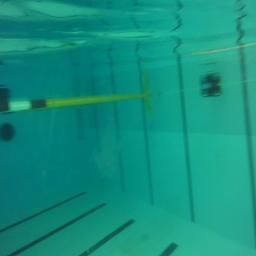Full: (200, 85, 221, 98)
